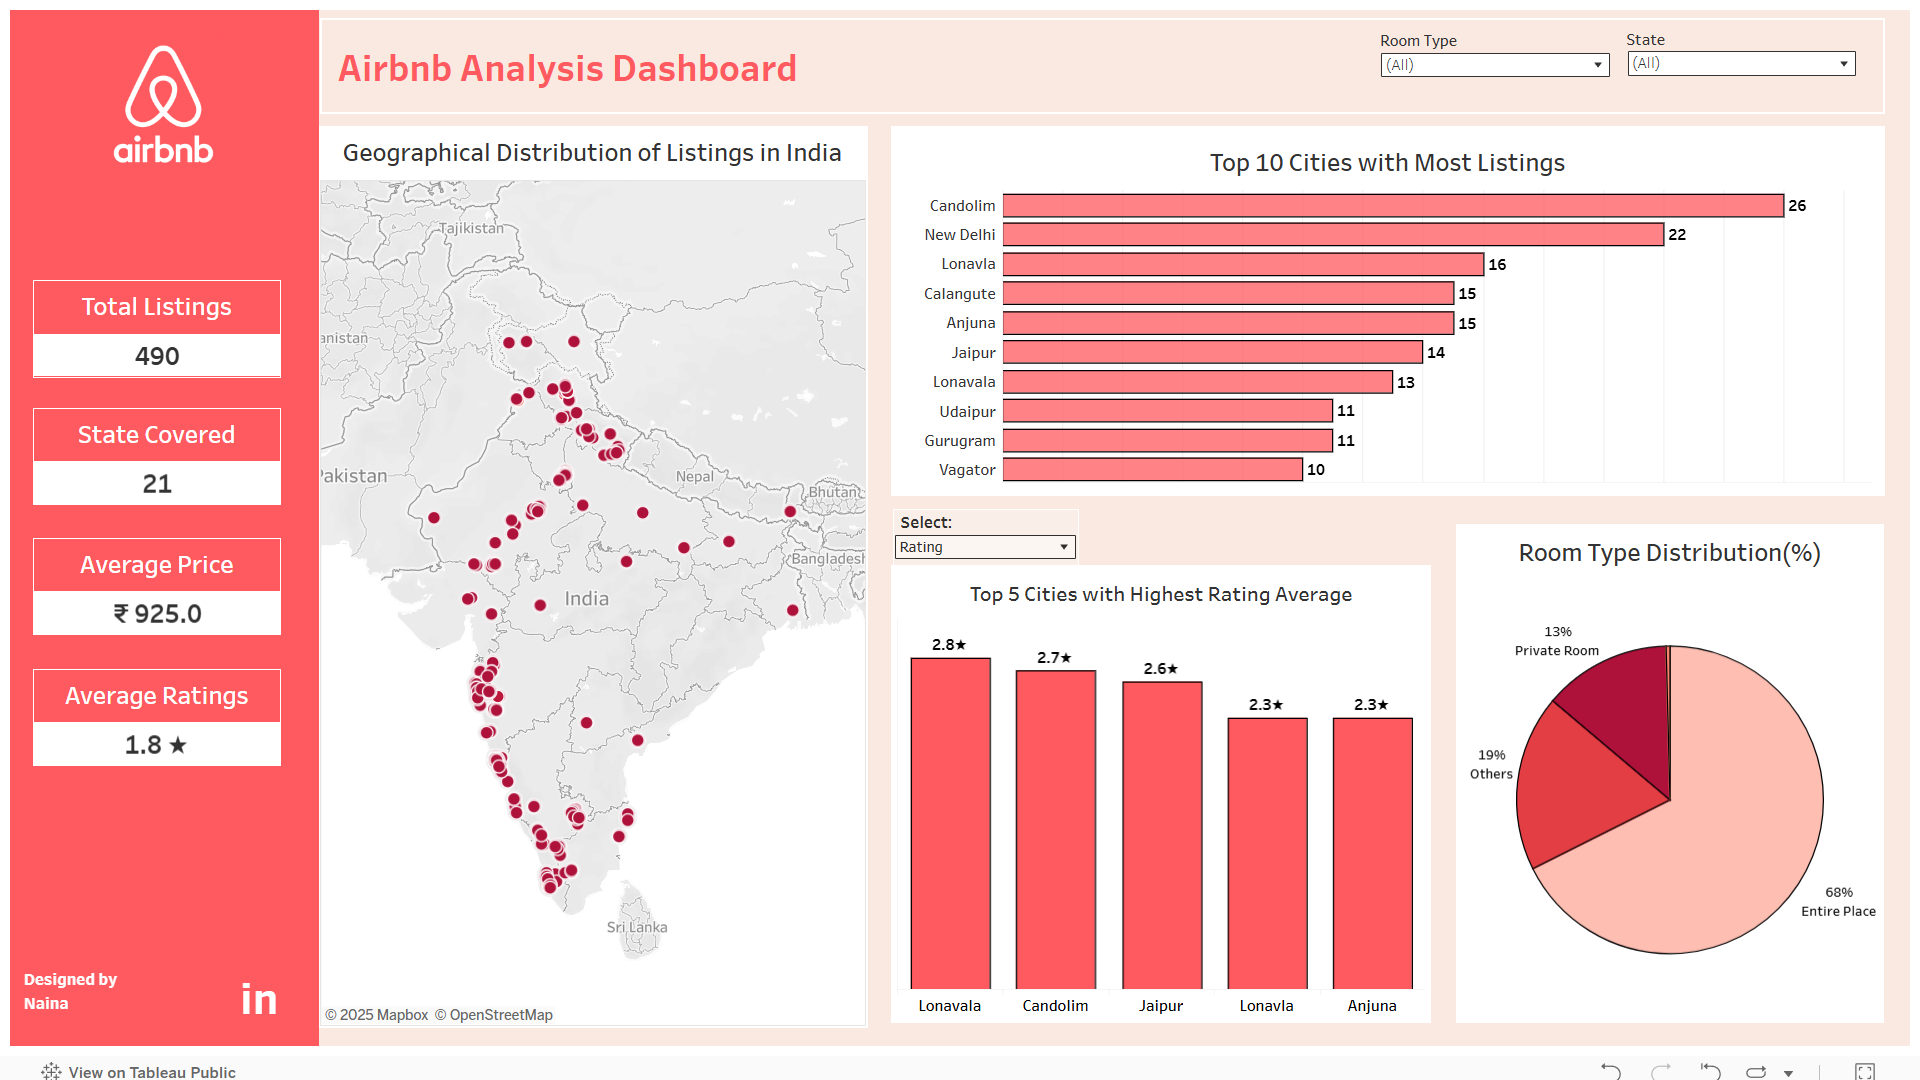

Layout of this report page (visuals, bound fields, positions):
{"tool":"tableau","page":{"name":"Dashboard 1","canvas":[1000,1000],"units":"permille","ordinal":0},"visuals":[{"type":"image","param":"Image/airbnb-logo.png","box":[17.5,10,134.6,197.2]},{"type":"title","box":[135.2,16.2,846.7,91.1]},{"type":"filter","title":"Bar","param":"[federated.0q6vegi1vjvgwn1ciqtx21u589x4].[none:State:nk]","box":[847.3,26.2,120.1,69.9]},{"type":"filter","title":"Column","param":"[federated.0q6vegi1vjvgwn1ciqtx21u589x4].[Room Type (group)]","box":[718.8,27.5,120.1,69.9]},{"type":"worksheet","title":"Sheet 10","mark":"Automatic","box":[57.3,44.9,48.3,123.6]},{"type":"worksheet","title":"Map","mark":"Multipolygon","rows":["Latitude"],"cols":["Longitude"],"box":[161.1,119.9,290.3,852.7]},{"type":"worksheet","title":"Bar","mark":"Automatic","rows":["City"],"cols":["Name"],"box":[464.1,119.9,517.8,349.6]},{"type":"worksheet","title":"Total Listing","mark":"Automatic","box":[16.9,264.7,129.8,92.4]},{"type":"worksheet","title":"State Covered","mark":"Automatic","box":[16.9,385.8,129.8,92.4]},{"type":"parameter","param":"[Parameters].[Parameter 1]","box":[464.7,489.4,118.9,41.2]},{"type":"worksheet","title":"Pie","mark":"Pie","box":[758.6,495.6,222.7,471.9]},{"type":"worksheet","title":"Average Price","mark":"Automatic","box":[16.9,509.4,129.8,92.4]},{"type":"worksheet","title":"Column","mark":"Bar","rows":["Calculation_930556277145640964"],"cols":["City"],"box":[464.1,534.3,281.2,433.2]},{"type":"worksheet","title":"Average Ratings","mark":"Automatic","box":[16.9,633,129.8,92.4]},{"type":"text","box":[12.1,901.4,71.2,72.4]},{"type":"worksheet","title":"Sheet 11","mark":"Automatic","box":[122.5,913.9,29,57.4]}]}

Visuals, with their boxes on the dashboard's canvas, which has no fixed pixel size, in thousandths of its width and height (x1, y1, x2, y2). These are canvas units, not pixel positions in the 1920x1080 screenshot, which may show the page scaled, cropped or inside an application window:
image: x1=18, y1=10, x2=152, y2=207
title: x1=135, y1=16, x2=982, y2=107
"Bar" filter: x1=847, y1=26, x2=967, y2=96
"Column" filter: x1=719, y1=28, x2=839, y2=97
"Sheet 10" worksheet: x1=57, y1=45, x2=106, y2=168
"Map" worksheet (Multipolygon marks): x1=161, y1=120, x2=451, y2=973
"Bar" worksheet: x1=464, y1=120, x2=982, y2=470
"Total Listing" worksheet: x1=17, y1=265, x2=147, y2=357
"State Covered" worksheet: x1=17, y1=386, x2=147, y2=478
parameter: x1=465, y1=489, x2=584, y2=531
"Pie" worksheet (Pie marks): x1=759, y1=496, x2=981, y2=968
"Average Price" worksheet: x1=17, y1=509, x2=147, y2=602
"Column" worksheet (Bar marks): x1=464, y1=534, x2=745, y2=968
"Average Ratings" worksheet: x1=17, y1=633, x2=147, y2=725
text: x1=12, y1=901, x2=83, y2=974
"Sheet 11" worksheet: x1=122, y1=914, x2=152, y2=971
